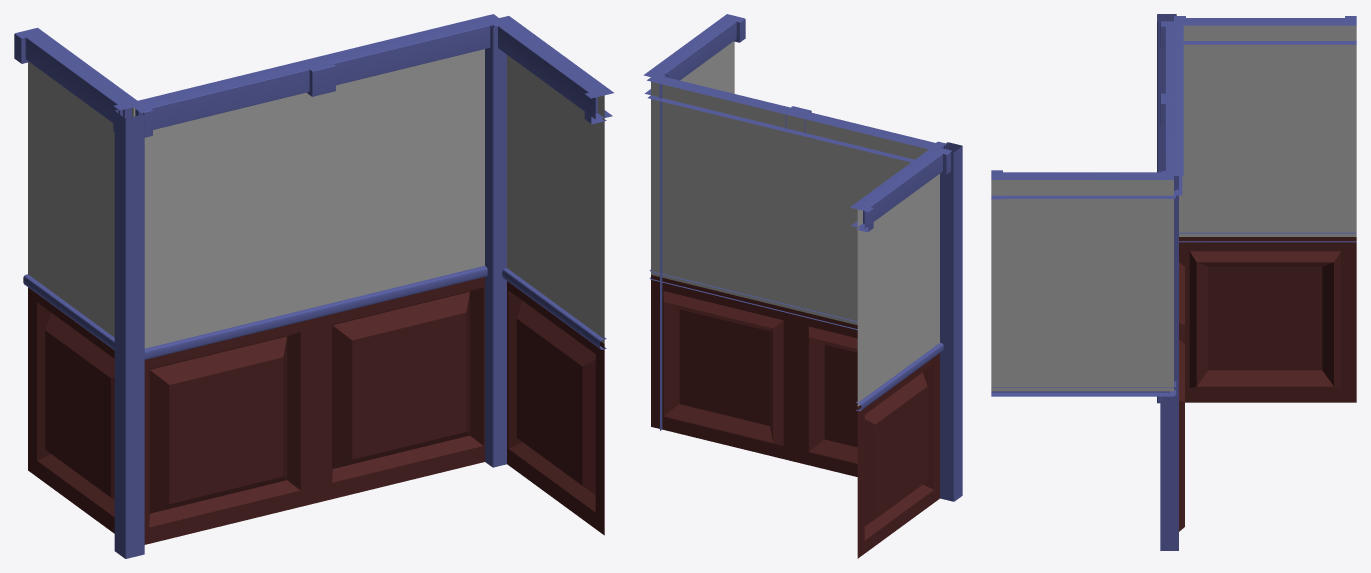
File: zal.fbx
3 views of the same model, side by side, from view 1: azimuth 30°, elevation 25°; view 2: azimuth 150°, elevation 25°; view 3: azimuth 270°, elevation 25° (orthographic). The views are drawn at different scales.
Parts seen in each view (by area): view 1: zal; view 2: zal; view 3: zal.
Part boxes in pixels (x1=…): zal: x1=14, y1=14, x2=613, y2=558; zal: x1=643, y1=14, x2=962, y2=558; zal: x1=991, y1=14, x2=1356, y2=550.
Size of the model in its own units: 216 by 230 by 200.
